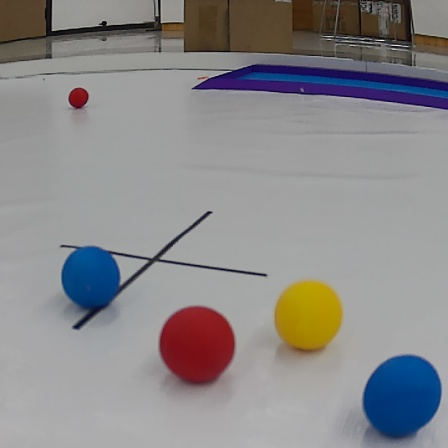blue: (364, 351, 444, 434), (59, 246, 123, 311)
blue_aim: (193, 58, 448, 112)
red: (158, 306, 236, 384), (68, 86, 89, 109)
yellow: (272, 278, 345, 353)
